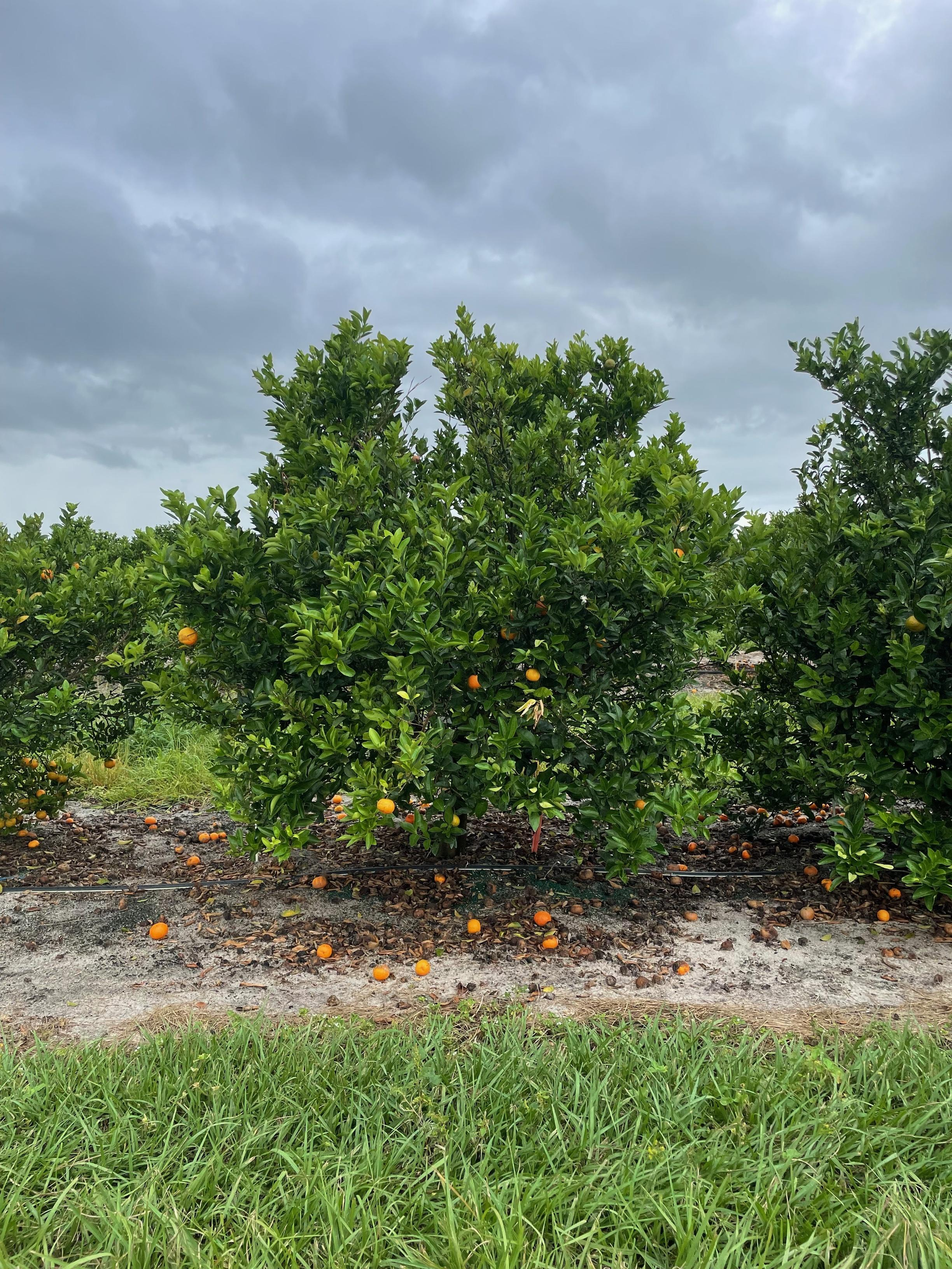fruit_on_ground: (175, 624, 201, 648), (902, 612, 928, 635), (532, 595, 554, 618), (497, 623, 520, 643), (375, 796, 397, 815), (465, 672, 484, 692), (523, 665, 543, 684), (668, 545, 687, 564), (38, 566, 56, 582), (592, 634, 610, 650), (446, 812, 462, 829), (632, 797, 648, 812), (602, 357, 618, 371), (69, 558, 83, 572), (33, 787, 47, 800), (19, 755, 33, 768), (4, 816, 17, 829), (55, 772, 68, 785), (103, 757, 117, 769), (12, 813, 25, 825), (17, 797, 30, 809), (27, 758, 39, 770), (35, 809, 47, 821), (46, 760, 59, 771), (47, 770, 59, 781), (410, 454, 422, 465), (0, 816, 6, 830)
fruit_on_tree: (147, 919, 170, 940), (371, 963, 391, 982), (413, 958, 433, 977), (576, 865, 596, 883), (532, 909, 552, 926), (539, 934, 560, 950), (315, 941, 333, 959), (310, 873, 329, 890), (466, 917, 483, 934), (362, 932, 380, 948), (799, 905, 816, 920), (402, 811, 418, 826), (416, 797, 433, 811), (56, 860, 72, 874), (676, 961, 691, 975), (875, 908, 891, 921), (432, 870, 446, 884), (819, 876, 833, 890), (570, 902, 585, 915), (887, 886, 902, 899), (186, 853, 201, 866), (684, 909, 700, 921), (330, 792, 344, 805), (803, 865, 818, 877), (16, 827, 30, 839), (144, 813, 158, 825), (198, 832, 211, 844), (28, 837, 41, 849), (787, 832, 799, 844), (657, 824, 670, 835), (685, 841, 698, 852), (796, 816, 809, 827), (770, 816, 783, 826), (669, 876, 682, 886), (676, 862, 689, 872), (651, 869, 664, 879), (782, 818, 795, 828), (173, 843, 185, 853), (176, 828, 188, 838), (336, 811, 348, 821), (812, 813, 824, 823), (208, 831, 220, 841), (745, 805, 757, 815), (717, 812, 729, 822), (333, 804, 345, 814), (757, 805, 768, 815), (741, 849, 752, 859), (741, 842, 752, 852), (696, 811, 706, 821), (217, 830, 227, 840), (808, 801, 819, 810), (730, 832, 741, 841), (792, 808, 802, 817), (729, 846, 739, 855), (65, 816, 76, 824), (820, 801, 829, 810), (779, 808, 790, 815)
